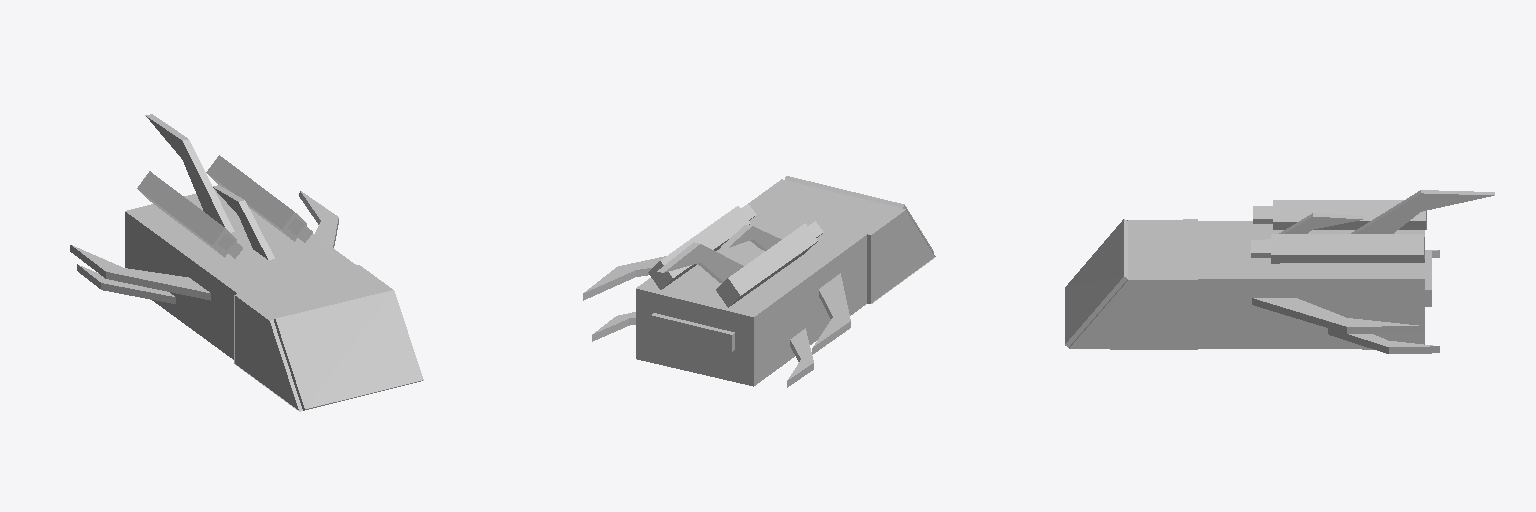
Rendered from Complete Enemy Hermes ship OBJ.obj.
3 views of the same model, side by side, from view 1: azimuth 30°, elevation 25°; view 2: azimuth 150°, elevation 25°; view 3: azimuth 270°, elevation 25° (orthographic).
Visible parts, largest first — view 1: pCube1, pasted__pasted__pasted__pCylinder3 pasted__pasted__group1 pasted, pasted__pasted__pCylinder3 pasted__group1 group5, pasted__pasted__pasted__pasted__pCube4 pasted__pasted__pasted__g, pasted__pasted__pasted__pCube4 pasted__pasted__group pasted__gro, pasted__pCube4 group, pasted__pasted__pCube4 pasted__group group1; view 2: pCube1, pasted__pasted__pasted__pCylinder3 pasted__pasted__group1 pasted, pasted__pasted__pasted__pCube4 pasted__pasted__group pasted__gro, pasted__pasted__pCylinder3 pasted__group1 group5, pCube2, pasted__pasted__pasted__pasted__pCube4 pasted__pasted__pasted__g, pasted__pCube4 group, pasted__pasted__pCube4 pasted__group group1; view 3: pCube1, pasted__pasted__pCylinder3 pasted__group1 group5, pasted__pasted__pasted__pCylinder3 pasted__pasted__group1 pasted, pasted__pasted__pCube4 pasted__group group1, pasted__pCube4 group, pasted__pasted__pasted__pCube4 pasted__pasted__group pasted__gro, pasted__pasted__pasted__pasted__pCube4 pasted__pasted__pasted__g.
Part boxes in pixels (left/top/right/bottom): pCube1: left=125, top=189, right=423, bottom=411; pasted__pasted__pasted__pCylinder3 pasted__pasted__group1 pasted: left=137, top=171, right=242, bottom=258; pasted__pasted__pCylinder3 pasted__group1 group5: left=206, top=155, right=312, bottom=242; pasted__pasted__pasted__pasted__pCube4 pasted__pasted__pasted__g: left=77, top=185, right=274, bottom=303; pasted__pasted__pasted__pCube4 pasted__pasted__group pasted__gro: left=70, top=245, right=210, bottom=300; pasted__pCube4 group: left=145, top=114, right=234, bottom=232; pasted__pasted__pCube4 pasted__group group1: left=299, top=191, right=338, bottom=247; pCube1: left=636, top=176, right=935, bottom=386; pasted__pasted__pasted__pCylinder3 pasted__pasted__group1 pasted: left=716, top=221, right=823, bottom=307; pasted__pasted__pasted__pCube4 pasted__pasted__group pasted__gro: left=592, top=273, right=850, bottom=354; pasted__pasted__pCylinder3 pasted__group1 group5: left=648, top=204, right=756, bottom=289; pCube2: left=651, top=313, right=734, bottom=351; pasted__pasted__pasted__pasted__pCube4 pasted__pasted__pasted__g: left=721, top=225, right=813, bottom=387; pasted__pCube4 group: left=657, top=242, right=743, bottom=282; pasted__pasted__pCube4 pasted__group group1: left=583, top=256, right=665, bottom=300; pCube1: left=1065, top=219, right=1424, bottom=349; pasted__pasted__pCylinder3 pasted__group1 group5: left=1250, top=234, right=1424, bottom=263; pasted__pasted__pasted__pCylinder3 pasted__pasted__group1 pasted: left=1253, top=200, right=1426, bottom=229; pasted__pasted__pCube4 pasted__group group1: left=1252, top=298, right=1421, bottom=333; pasted__pCube4 group: left=1351, top=190, right=1494, bottom=233; pasted__pasted__pasted__pCube4 pasted__pasted__group pasted__gro: left=1328, top=328, right=1439, bottom=353; pasted__pasted__pasted__pasted__pCube4 pasted__pasted__pasted__g: left=1279, top=213, right=1439, bottom=257.
Bounding box in the file's own units: 10.17 × 5.38 × 16.26.